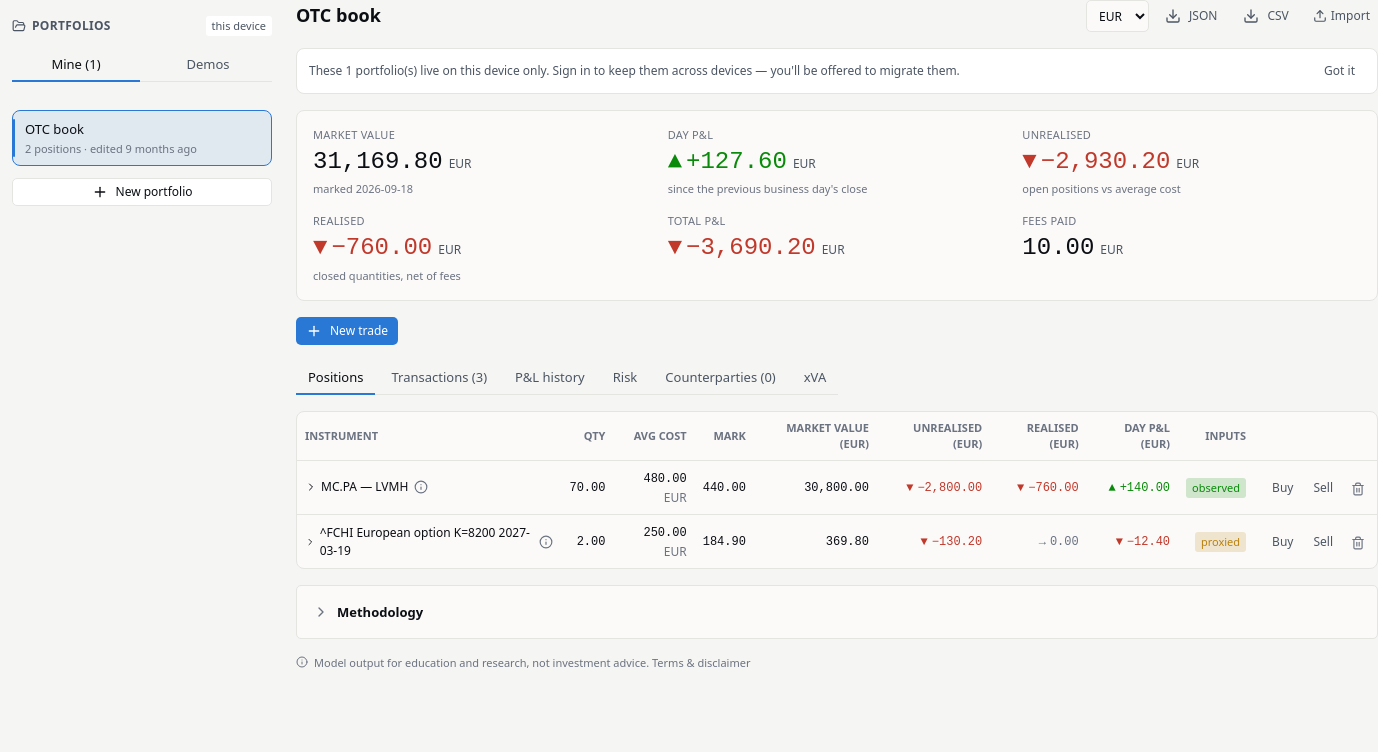
counterparties of a portfolio › trades a derivative under a netting set, which then keeps its counterparty
The image size is (1378, 752).
Click the tab "Counterparties (0)" at [720, 378], box [653,361,788,395]
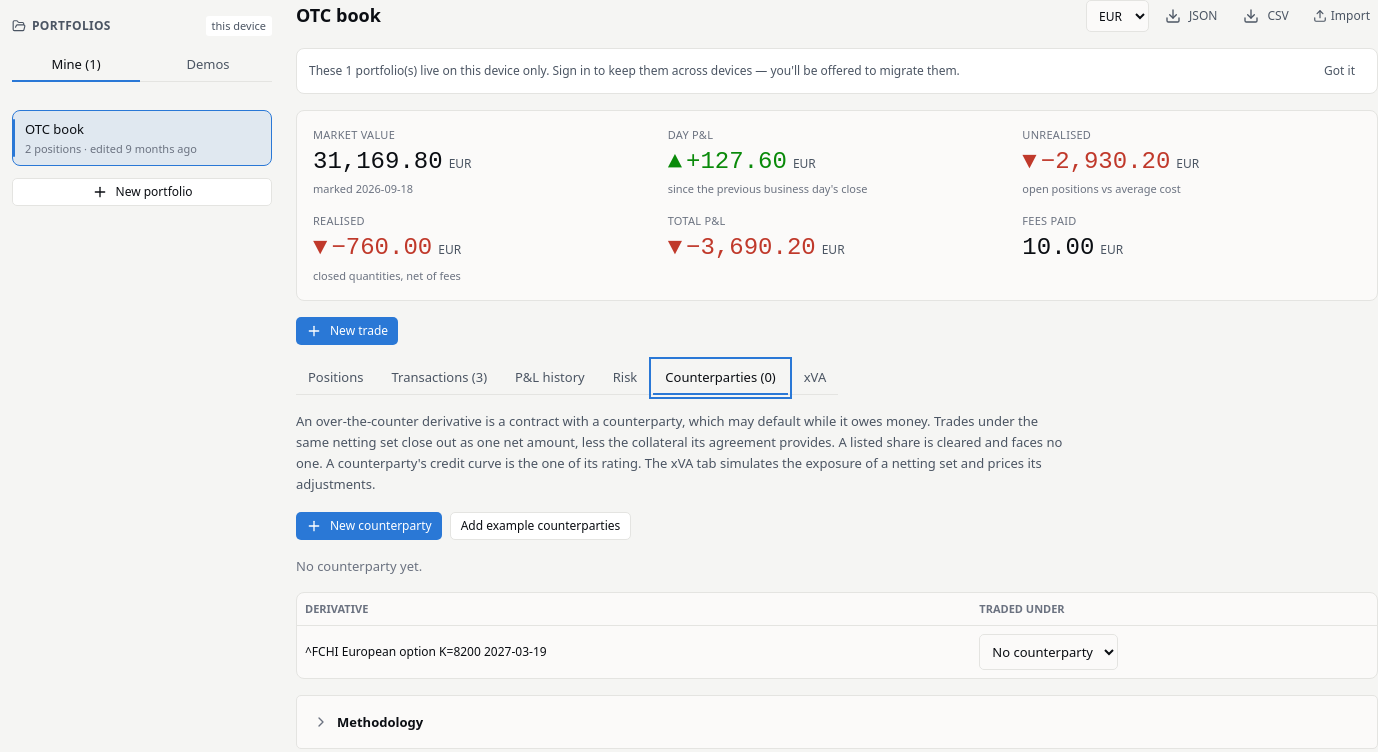
Result: the button "Add example counterparties" is enabled
Click the button "Add example counterparties" at [540, 526], box [450,512,631,540]
(page scrolled)
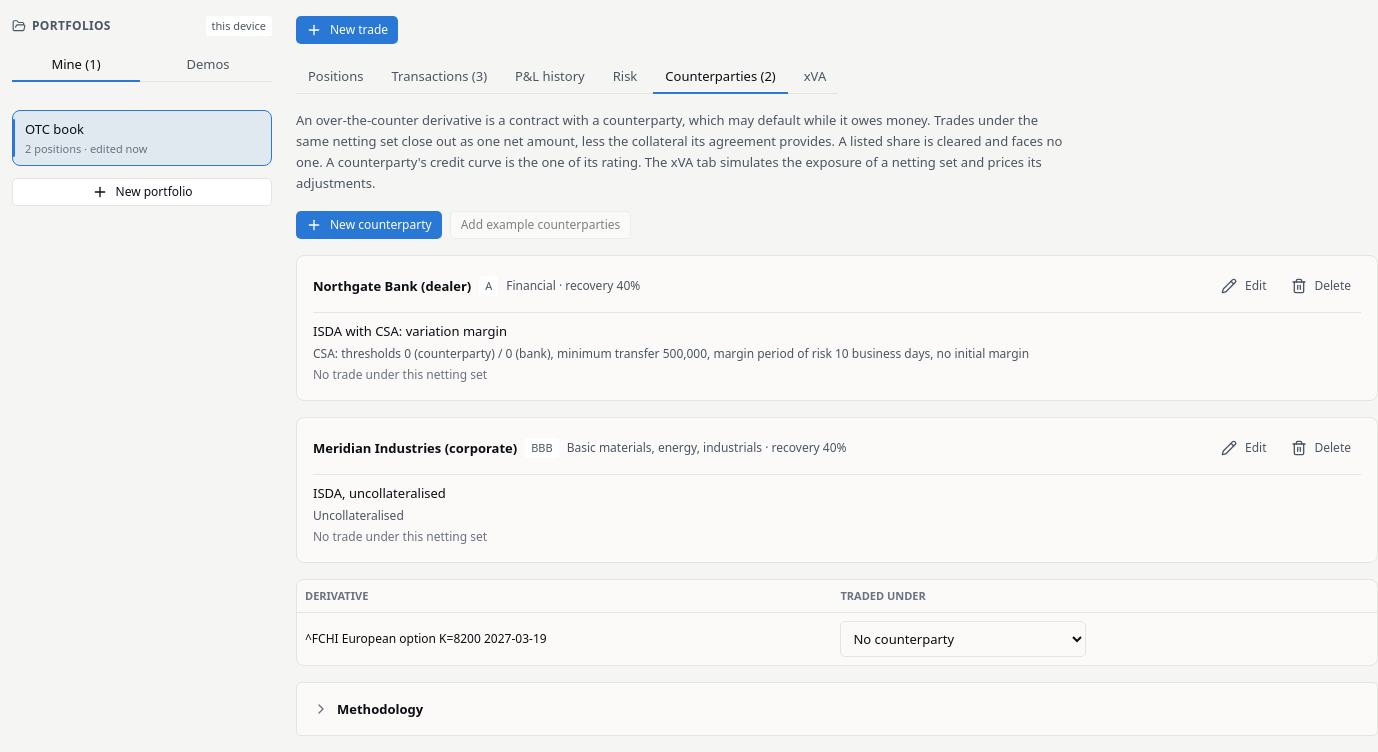
Result: the element "Northgate Bank (dealer)" is shown at [296,254,1377,401]
Select "ISDA with CSA: variation margin" in the dropdown named "Netting set of" at [964, 639], box [840,621,1086,657]
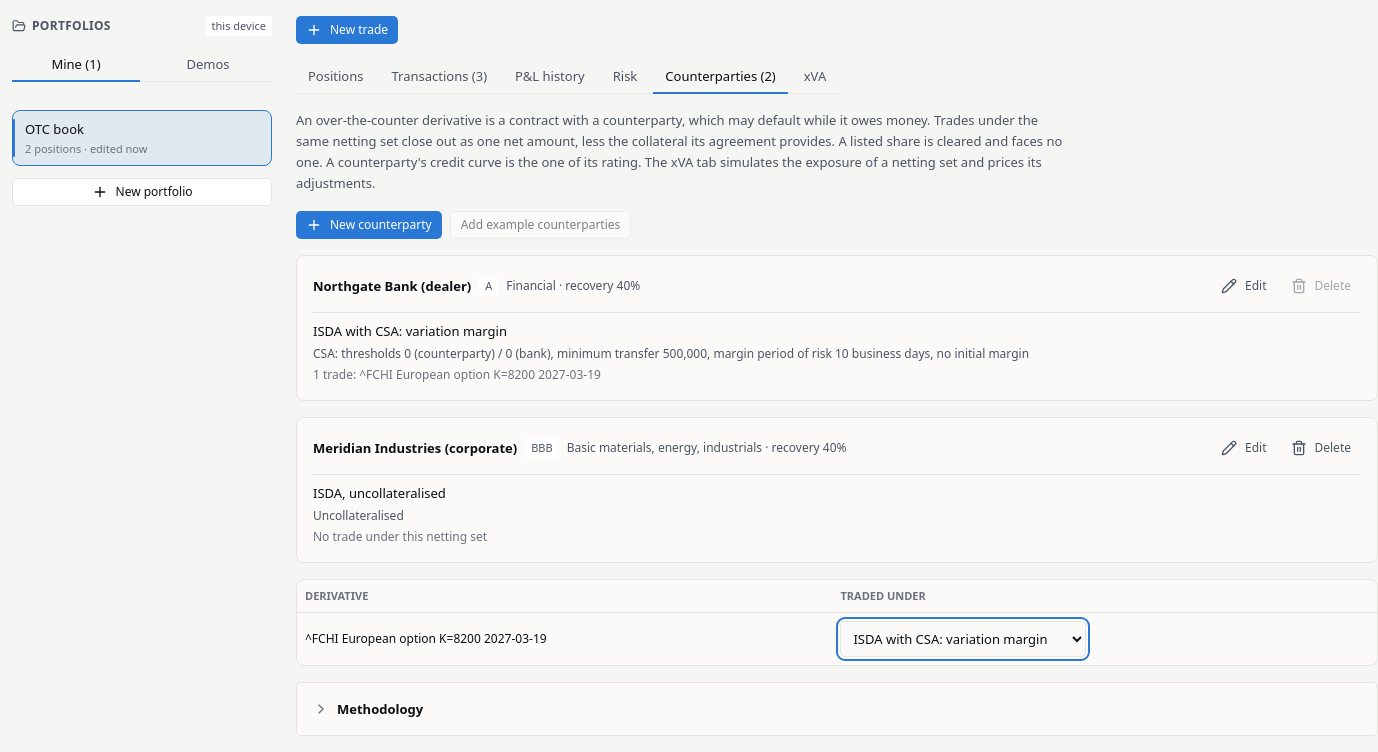
Result: the button "Delete" in the row of "Basic materials, energy, industrials" is enabled at [1280,434,1361,462]
Result: the text "1 trade: ^FCHI European option K=8200 2027-03-19" is shown at [313,366,601,383]
Result: the button "Delete" in the row of "Financial" is disabled at [1280,272,1361,300]
